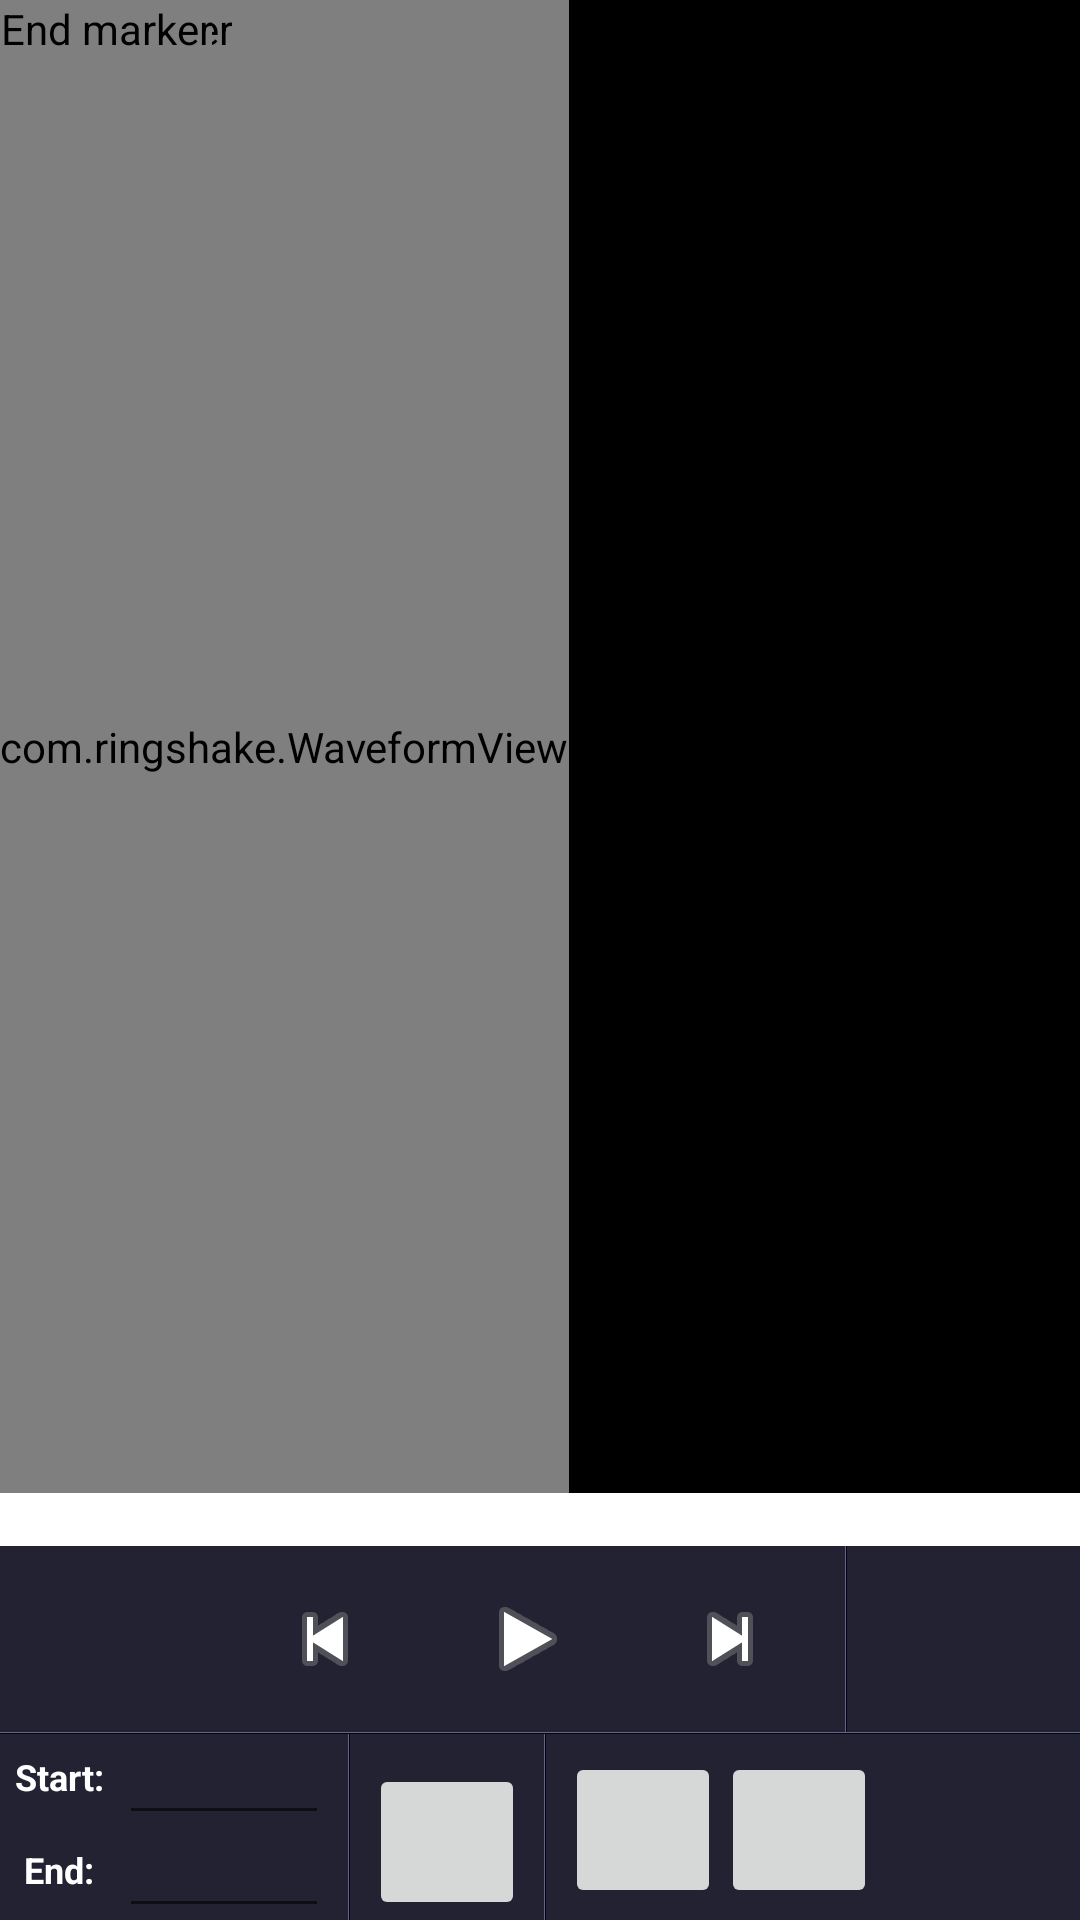

Icons on this 1080 × 1920 Android screen, each with the point to tap as [x,y]:
Fast forward: [730,1639]
Play: [528,1639]
Rewind: [325,1639]
